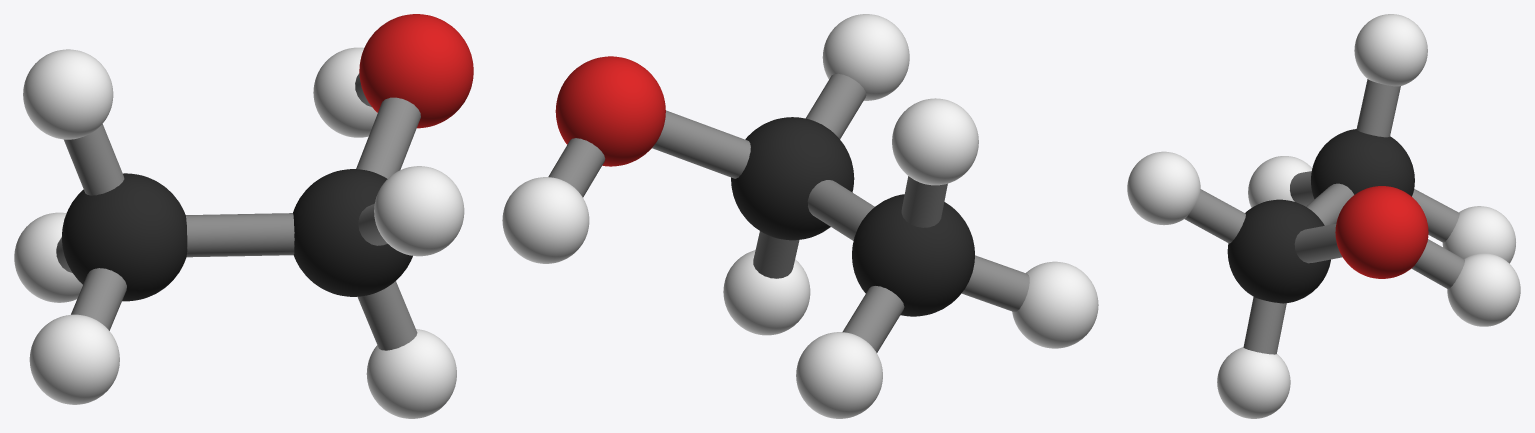
The model's file is ethanol.glb.
The picture shows the model from 3 angles, left to right: view 1: azimuth 30°, elevation 25°; view 2: azimuth 150°, elevation 25°; view 3: azimuth 270°, elevation 25°; orthographic projection. The views are drawn at different scales.
Parts seen in each view (by area): view 1: C_0, C_1, O_2, H_7, H_4, H_5, H_6, B0, H_3, H_8, B1, B4 (+3 smaller); view 2: C_0, C_1, O_2, H_5, H_8, H_3, H_4, H_7, H_6, B1, B3, B0 (+5 smaller); view 3: C_1, O_2, C_0, H_7, H_5, H_6, H_8, H_3, H_4, B4, B5, B6 (+5 smaller).
Part boxes in pixels (x1=…): C_0: x1=61, y1=173, x2=187, y2=301; C_1: x1=293, y1=169, x2=412, y2=296; O_2: x1=359, y1=14, x2=473, y2=128; H_7: x1=374, y1=166, x2=464, y2=256; H_4: x1=29, y1=314, x2=119, y2=404; H_5: x1=23, y1=49, x2=113, y2=139; H_6: x1=366, y1=329, x2=456, y2=418; B0: x1=185, y1=213, x2=294, y2=257; H_3: x1=14, y1=212, x2=82, y2=302; H_8: x1=313, y1=47, x2=377, y2=137; B1: x1=356, y1=97, x2=420, y2=178; B4: x1=63, y1=124, x2=124, y2=195; C_0: x1=852, y1=194, x2=974, y2=316; C_1: x1=731, y1=117, x2=854, y2=240; O_2: x1=555, y1=56, x2=665, y2=166; H_5: x1=892, y1=98, x2=978, y2=185; H_8: x1=502, y1=177, x2=589, y2=263; H_3: x1=796, y1=332, x2=882, y2=418; H_4: x1=1012, y1=261, x2=1098, y2=348; H_7: x1=822, y1=14, x2=909, y2=100; H_6: x1=723, y1=250, x2=810, y2=335; B1: x1=652, y1=110, x2=750, y2=178; B3: x1=961, y1=255, x2=1029, y2=312; B0: x1=807, y1=180, x2=874, y2=240; C_1: x1=1227, y1=199, x2=1330, y2=303; O_2: x1=1335, y1=186, x2=1428, y2=278; C_0: x1=1311, y1=129, x2=1414, y2=198; H_7: x1=1127, y1=151, x2=1200, y2=225; H_5: x1=1354, y1=14, x2=1427, y2=86; H_6: x1=1217, y1=347, x2=1290, y2=418; H_8: x1=1447, y1=253, x2=1520, y2=326; H_3: x1=1442, y1=206, x2=1515, y2=263; H_4: x1=1248, y1=156, x2=1312, y2=207; B4: x1=1356, y1=79, x2=1400, y2=137; B5: x1=1243, y1=297, x2=1286, y2=354; B6: x1=1184, y1=189, x2=1245, y2=243.
Size of the model in its own units: 3.76 by 2.66 by 3.21.
